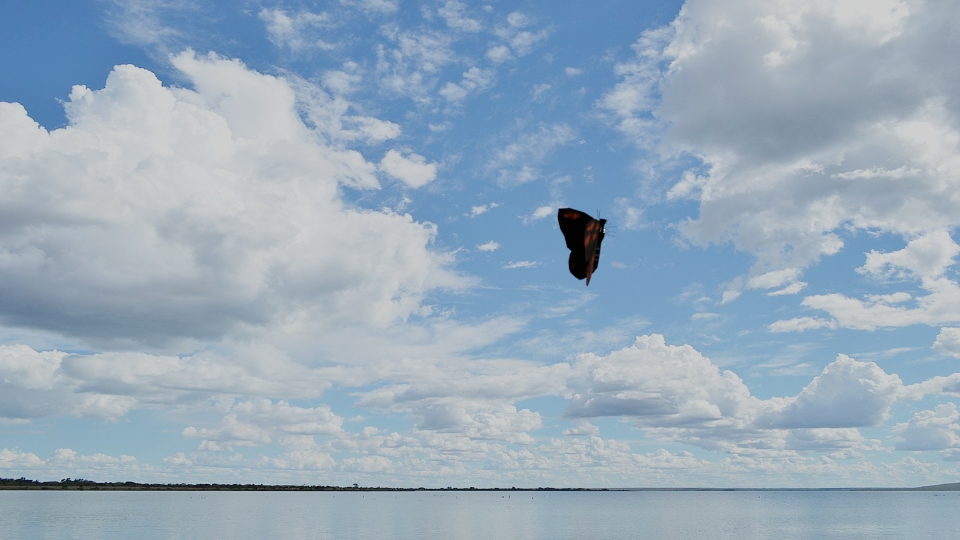insect: (558, 208, 612, 284)
